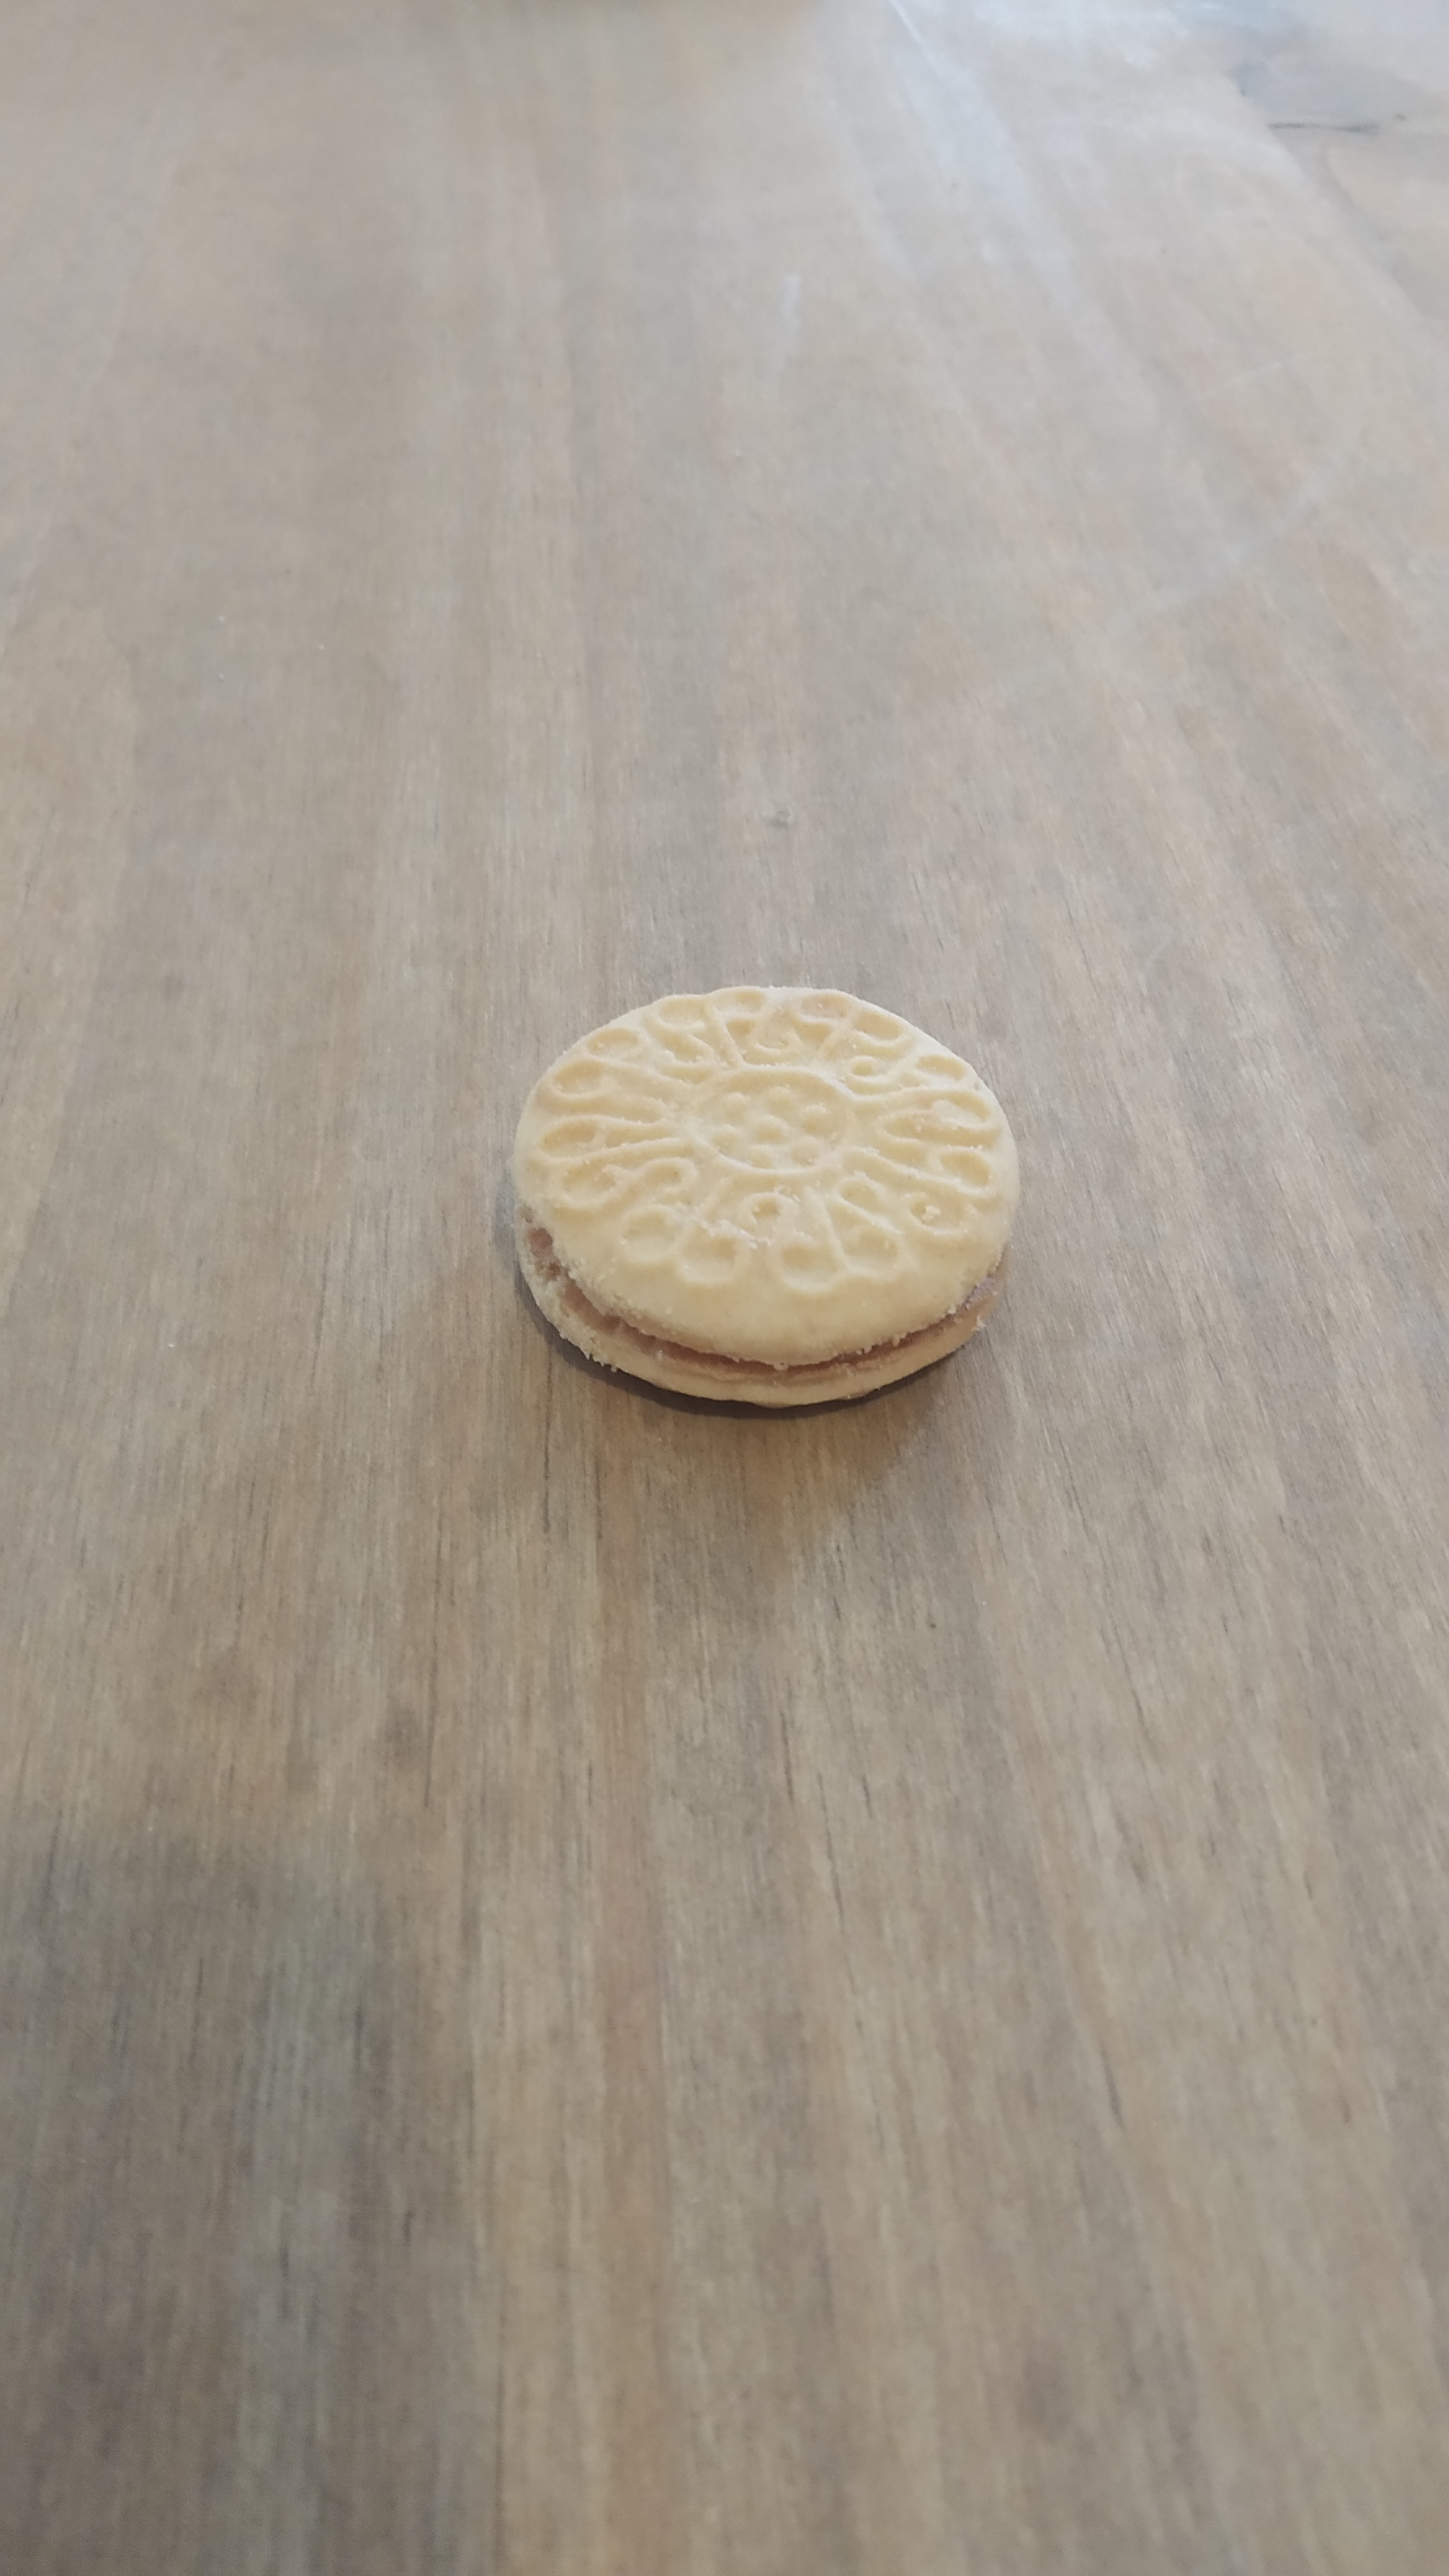lulu: (510, 984, 1023, 1412)
